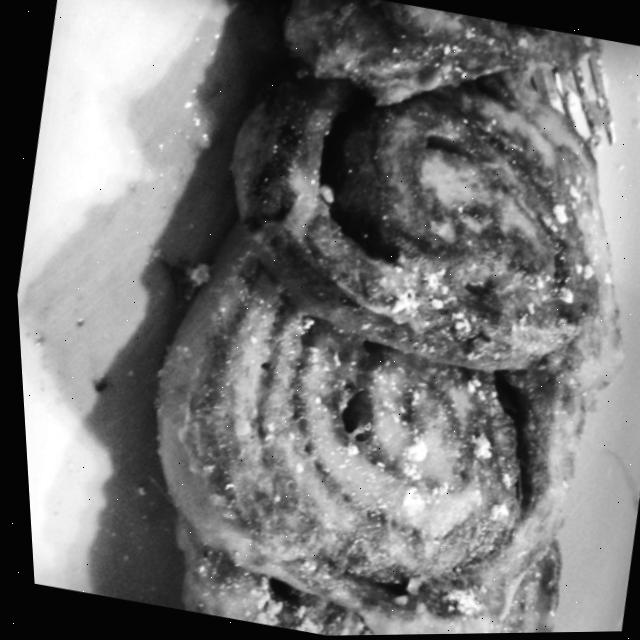面包点心: (69, 0, 640, 639)
